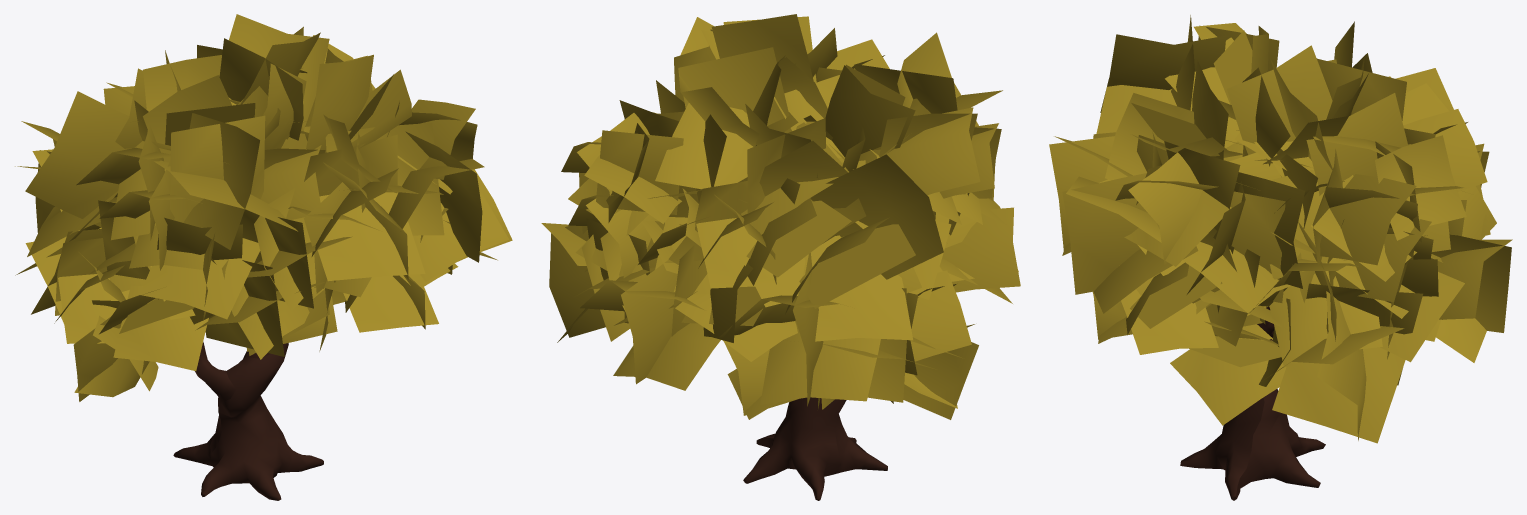
File: TR_01_autumn.fbx
3 views of the same model, side by side, from view 1: azimuth 30°, elevation 25°; view 2: azimuth 150°, elevation 25°; view 3: azimuth 270°, elevation 25° (orthographic). The views are drawn at different scales.
Parts seen in each view (by area): view 1: Tr_01_Leaves_autumn_001, Tr_01_Stem_autumn_001; view 2: Tr_01_Leaves_autumn_001, Tr_01_Stem_autumn_001; view 3: Tr_01_Leaves_autumn_001, Tr_01_Stem_autumn_001.
Part boxes in pixels (box(x1,y1,x2,y2)): Tr_01_Leaves_autumn_001: box(15, 14, 512, 401); Tr_01_Stem_autumn_001: box(173, 342, 323, 500); Tr_01_Leaves_autumn_001: box(541, 14, 1020, 419); Tr_01_Stem_autumn_001: box(743, 397, 887, 500); Tr_01_Leaves_autumn_001: box(1049, 15, 1512, 443); Tr_01_Stem_autumn_001: box(1180, 307, 1325, 500).
Bounding box in the file's own units: 434 × 427 × 415.
